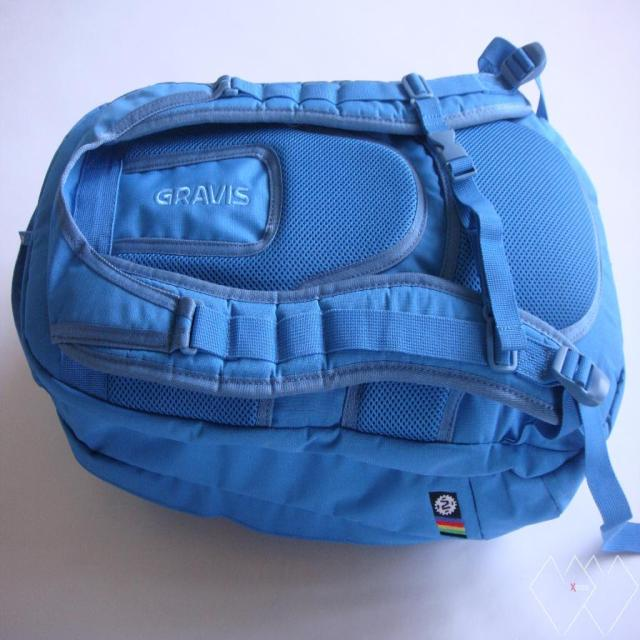backpack: (14, 51, 628, 562)
